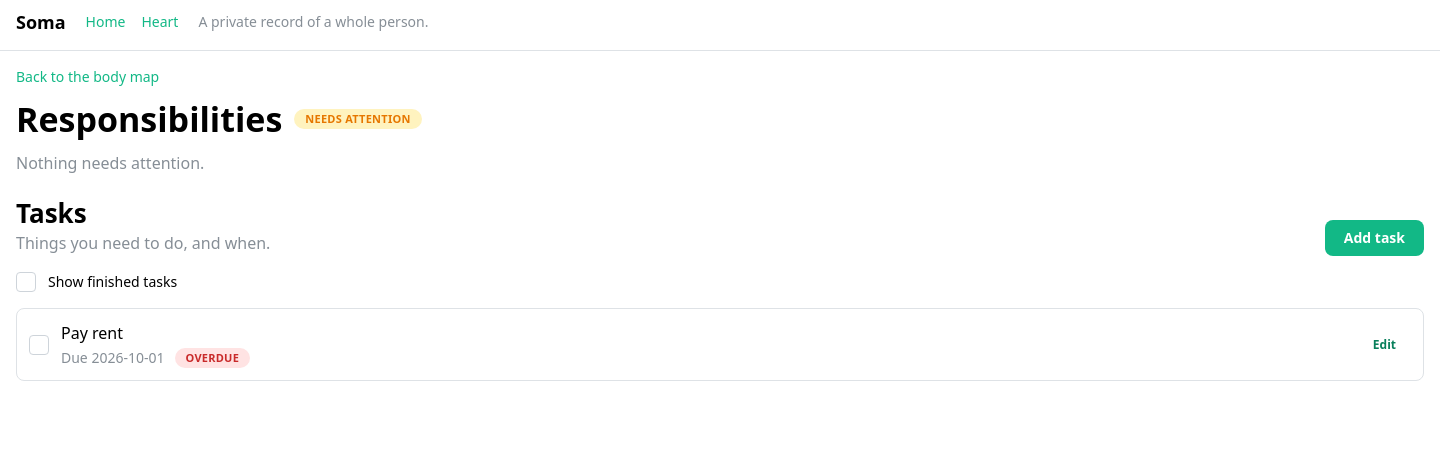
Tasks page › shows open tasks and hides finished ones until asked
The image size is (1440, 466).
Check: the text "Pay rent" is shown, box [61, 322, 123, 344]
Check: the text "Overdue" is shown, box [186, 349, 239, 367]
Click the checkbox labelled "Show finished tasks" at (26, 282), box [16, 272, 36, 292]
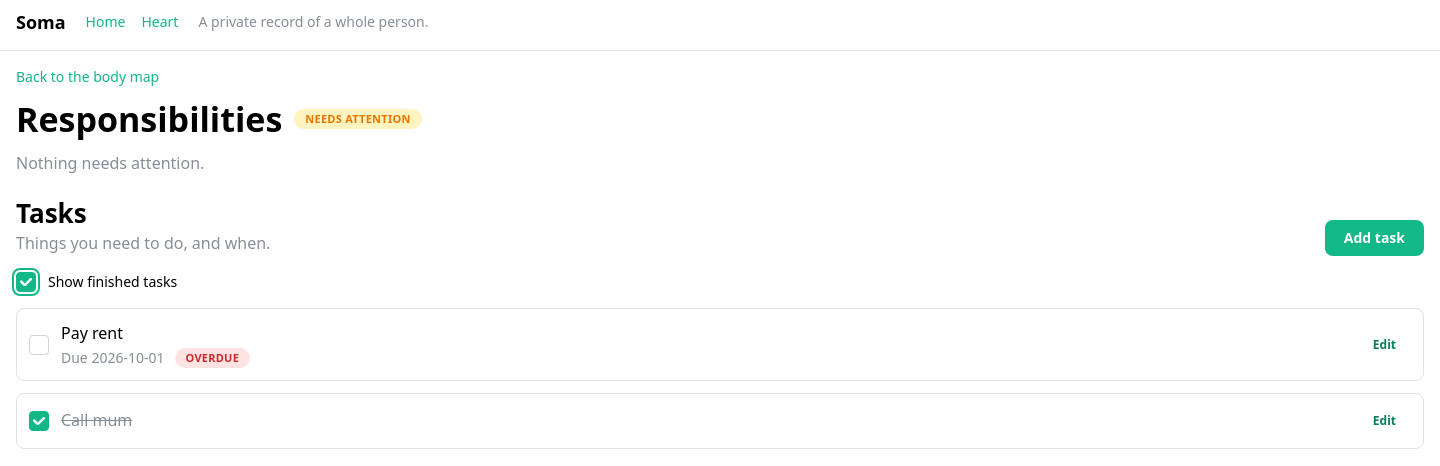
Check: the text "Call mum" is shown, box [61, 408, 132, 433]
